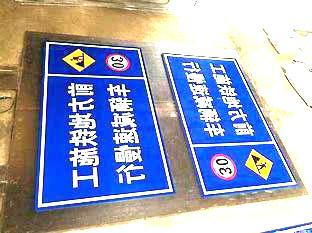sign: (44, 40, 168, 199), (171, 54, 288, 192)
